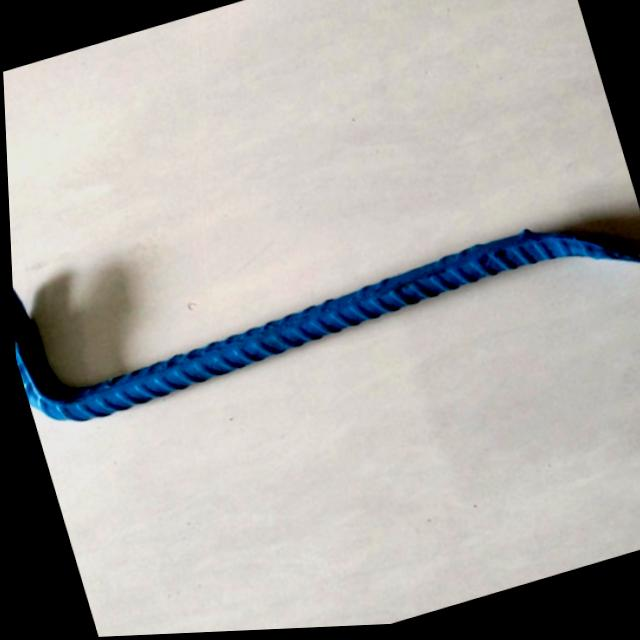crow bar: (4, 84, 640, 475)
